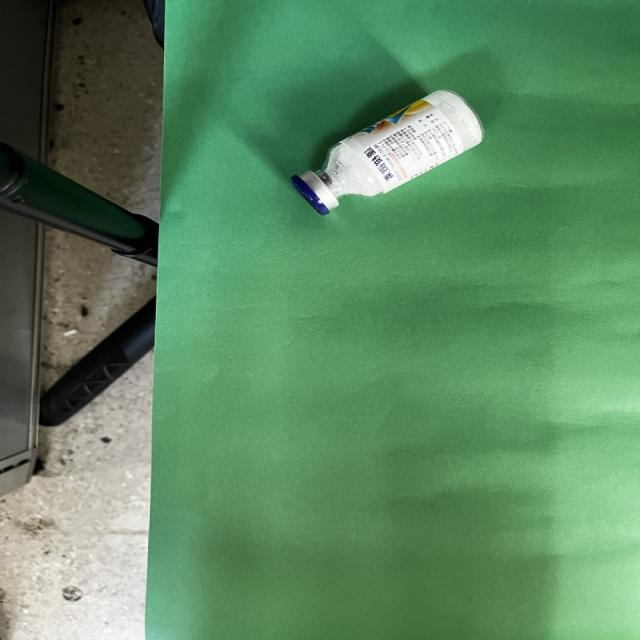Vials: (291, 90, 484, 215)
